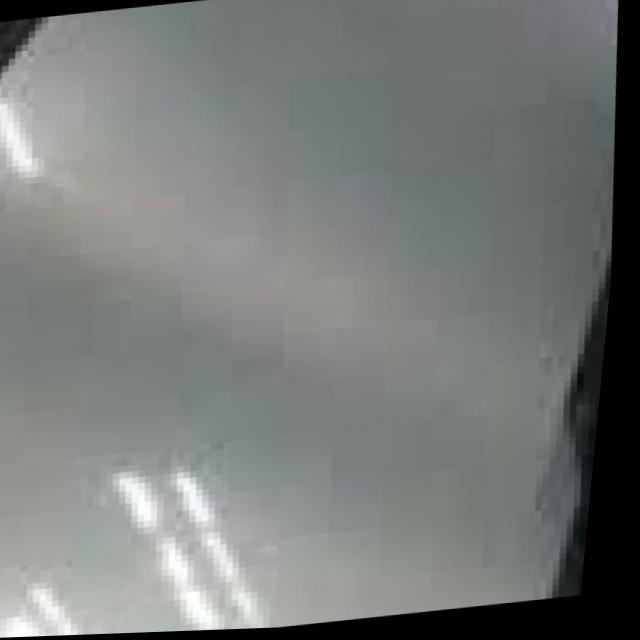metal-plates: (1, 1, 619, 640)
